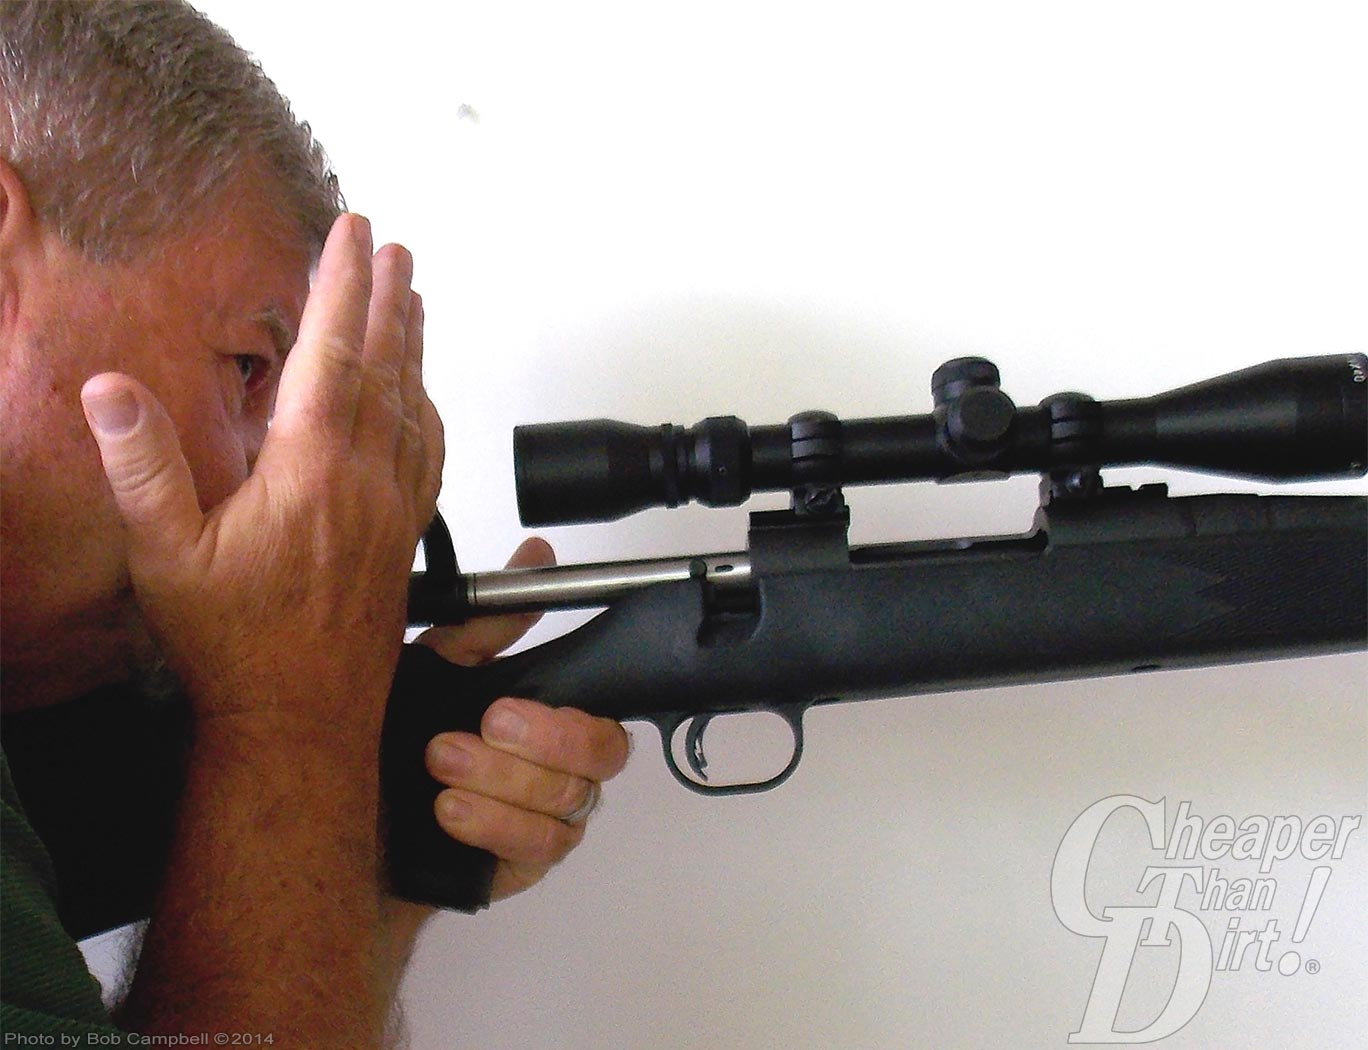Gun: (471, 331, 1366, 690)
